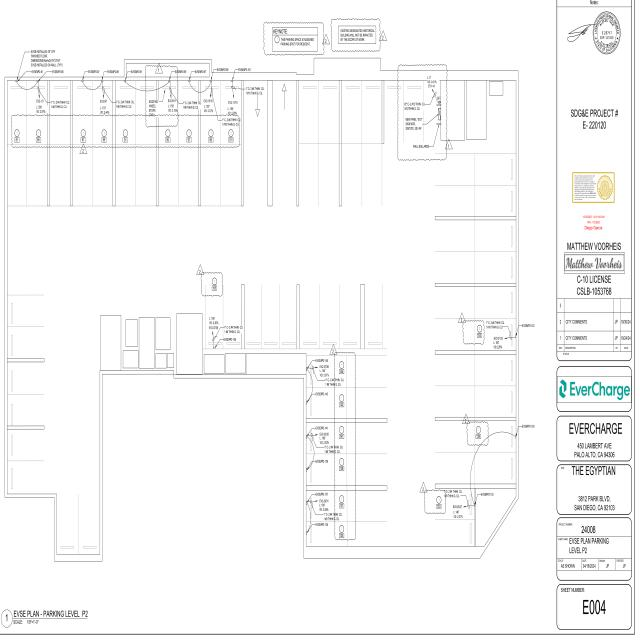evse: (78, 79, 88, 85), (186, 78, 196, 84), (304, 433, 308, 447), (304, 527, 308, 540), (230, 77, 237, 84), (13, 79, 21, 85), (167, 78, 175, 84), (208, 78, 216, 84), (304, 398, 308, 410), (211, 346, 219, 352), (514, 332, 518, 343), (473, 498, 476, 512), (305, 463, 308, 477), (34, 79, 42, 84), (98, 79, 106, 84), (122, 79, 130, 84), (514, 432, 517, 445), (304, 365, 308, 374), (306, 498, 308, 510)
gfi: (438, 100, 442, 104)
panel: (437, 106, 443, 122)
